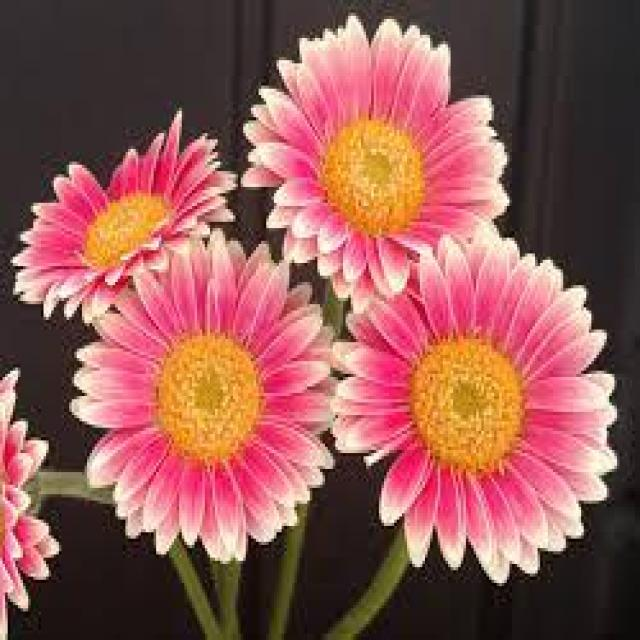organic waste: (308, 238, 616, 583), (82, 228, 348, 551), (234, 8, 514, 293), (14, 124, 239, 292)
